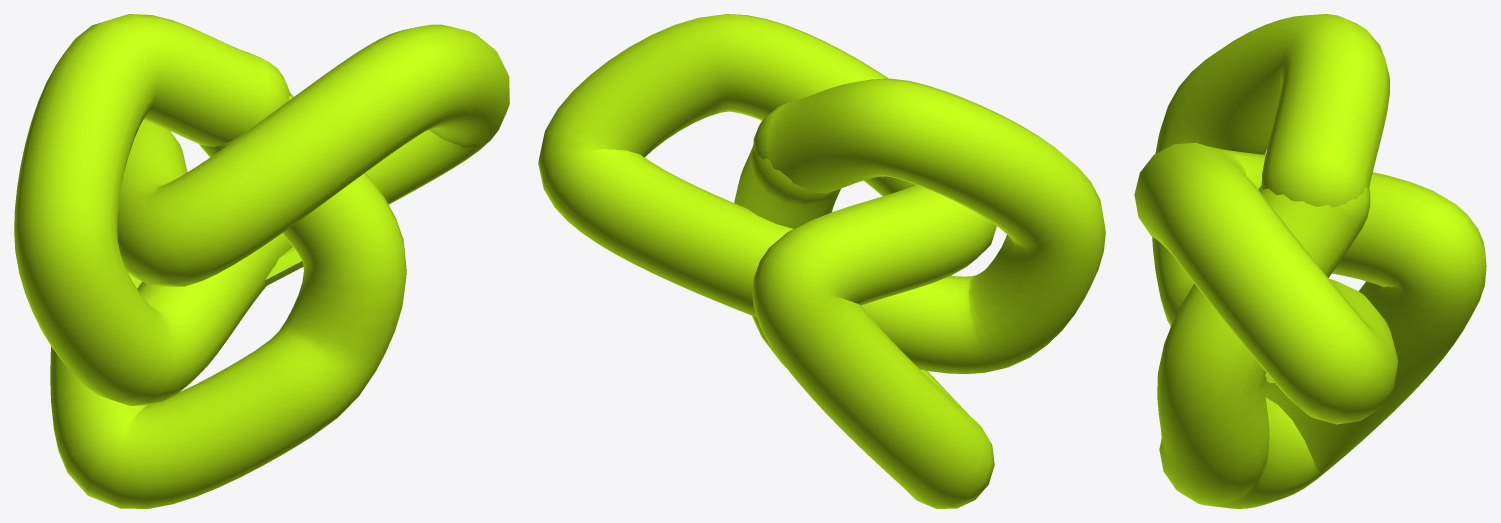
Rendered from trefoil.glb.
The picture shows the model from 3 angles, left to right: view 1: azimuth 30°, elevation 25°; view 2: azimuth 150°, elevation 25°; view 3: azimuth 270°, elevation 25°; orthographic projection. The views are drawn at different scales.
Visible parts, largest first — view 1: mesh_id102, mesh_id95; view 2: mesh_id102; view 3: mesh_id102.
Boxes of the visible parts, left/top/right/bottom form: mesh_id102: left=14, top=14, right=509, bottom=508; mesh_id95: left=265, top=247, right=303, bottom=286; mesh_id102: left=538, top=14, right=1105, bottom=508; mesh_id102: left=1134, top=14, right=1486, bottom=508.
Bounding box in the file's own units: 0.3536 × 0.2912 × 0.1944.
2 materials, 2 textured.
